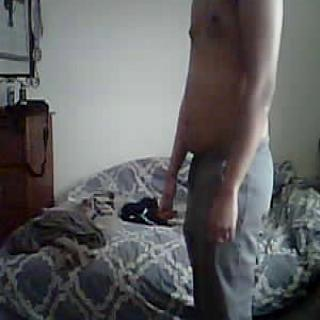Gray Sweatpants: (183, 131, 279, 320)
